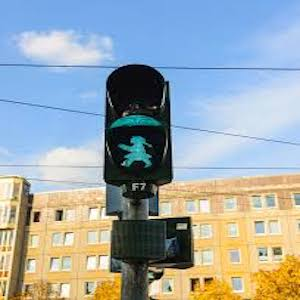green: (118, 131, 159, 169)
